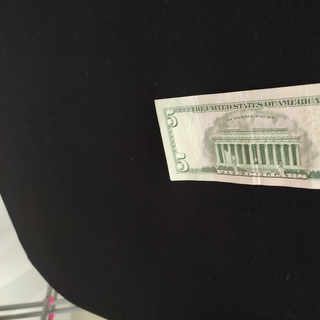5USDBack: (154, 77, 320, 196)
